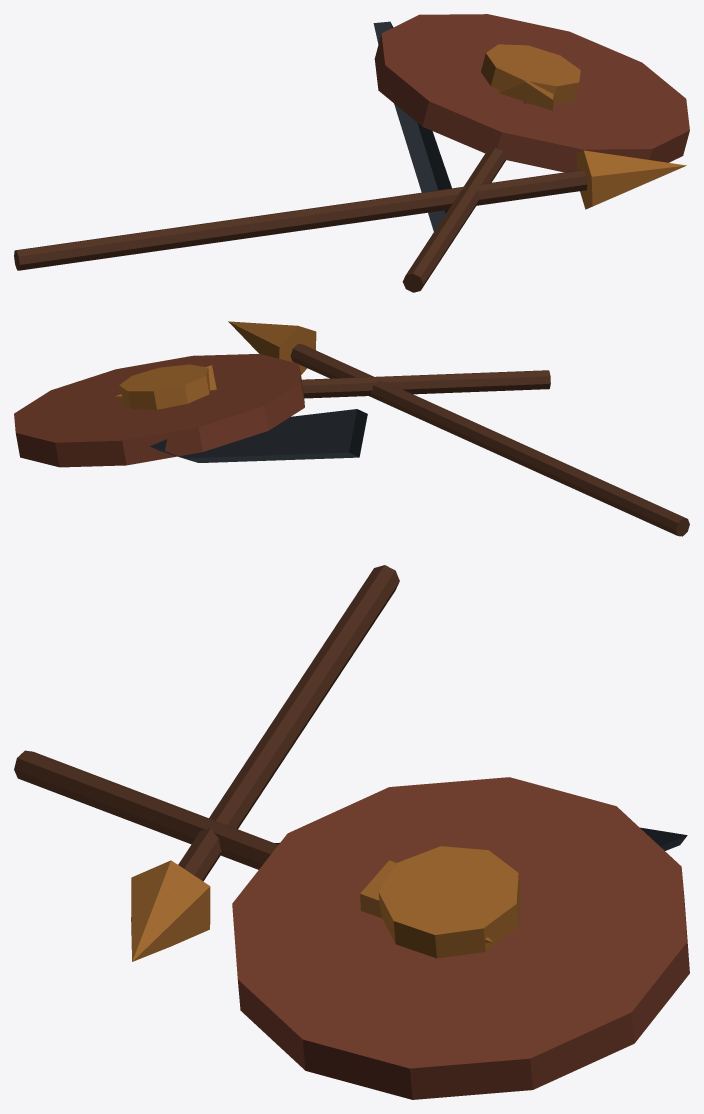
The model's file is battle_weapon_debris_LOD1.glb.
3 views of the same model, one above another, from view 1: azimuth 30°, elevation 25°; view 2: azimuth 150°, elevation 25°; view 3: azimuth 270°, elevation 25° (orthographic). The views are drawn at different scales.
Visible parts, largest first — view 1: battle_weapon_debris_LOD1; view 2: battle_weapon_debris_LOD1; view 3: battle_weapon_debris_LOD1.
Boxes of the visible parts, left/top/right/bottom form: battle_weapon_debris_LOD1: left=14, top=14, right=689, bottom=292; battle_weapon_debris_LOD1: left=14, top=321, right=689, bottom=536; battle_weapon_debris_LOD1: left=14, top=565, right=689, bottom=1099.
Size of the model in its own units: 2.51 by 0.3706 by 1.51.
